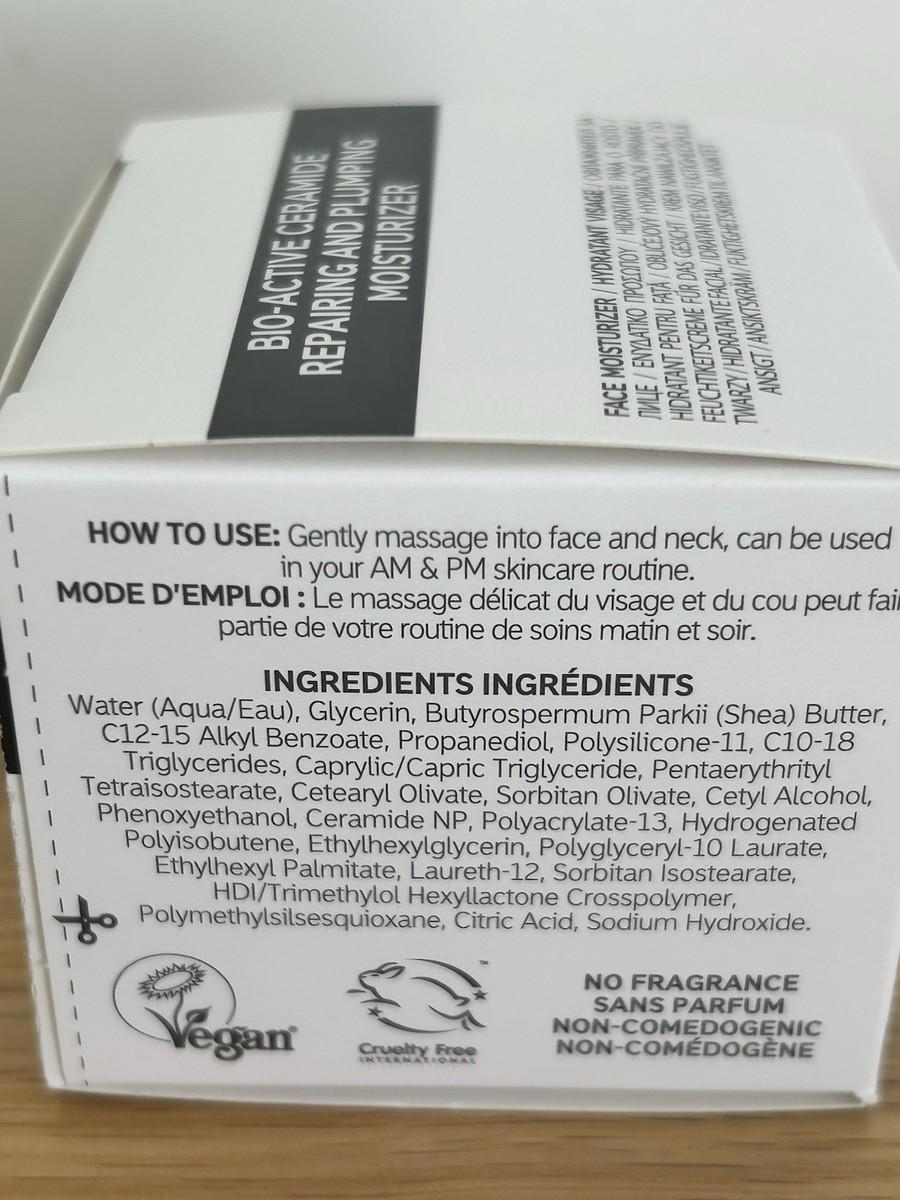ingredients: (60, 684, 886, 937)
